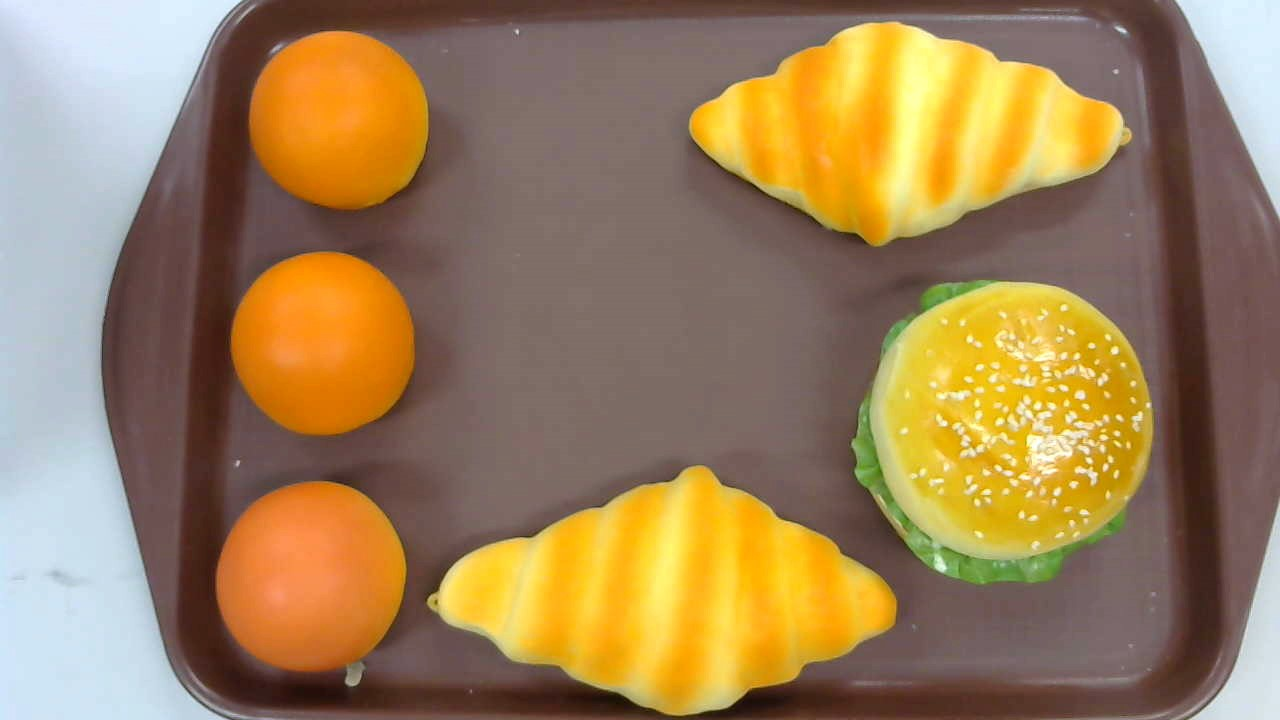bun: (216, 479, 407, 675), (229, 250, 413, 439), (249, 31, 429, 210)
croissant: (427, 465, 898, 716), (689, 21, 1132, 246)
hamburger: (850, 278, 1153, 584)
